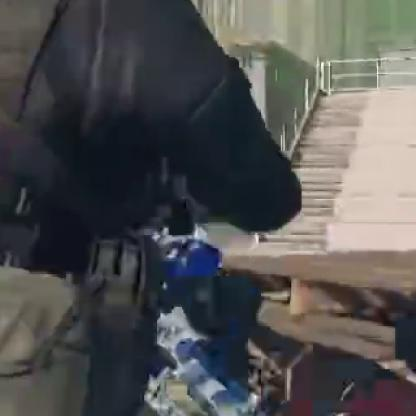enemy: (1, 1, 311, 415)
